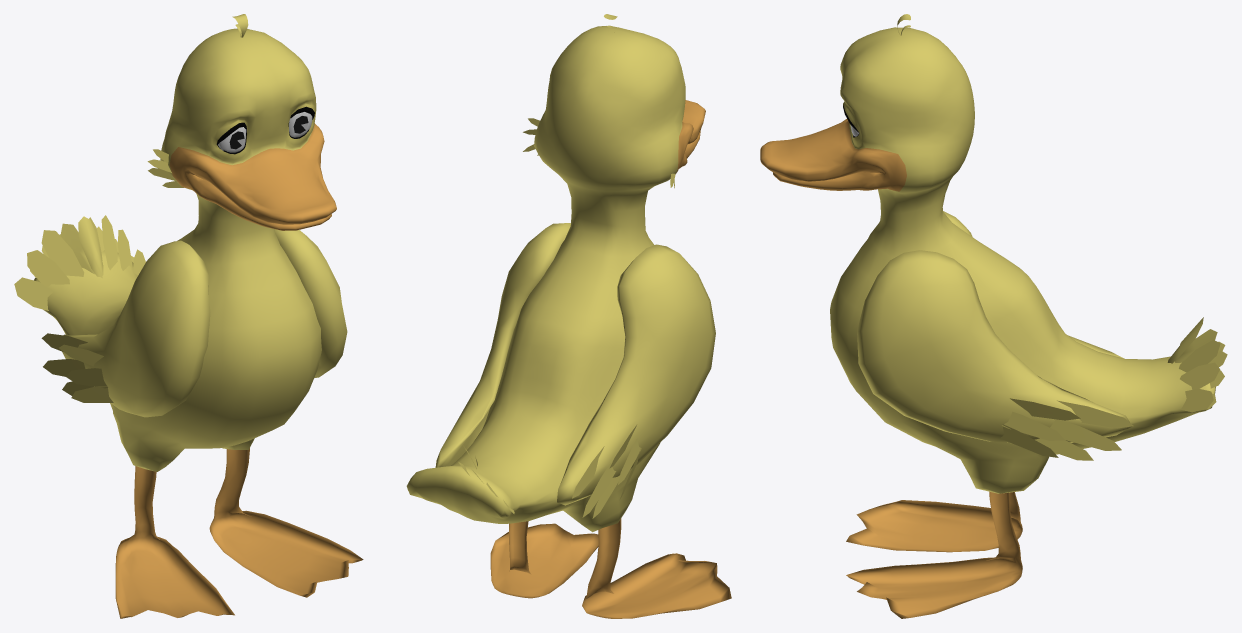
The model's file is duck.glb.
3 views of the same model, side by side, from view 1: azimuth 30°, elevation 25°; view 2: azimuth 150°, elevation 25°; view 3: azimuth 270°, elevation 25° (orthographic). The views are drawn at different scales.
Visible parts, largest first — view 1: Cube; view 2: Cube; view 3: Cube.
Part boxes in pixels (x1,y1,x2,y2): Cube: [14, 14, 363, 618]; Cube: [406, 14, 731, 618]; Cube: [760, 14, 1227, 618].
Bounding box in the file's own units: 1.64 × 3.71 × 2.86.
